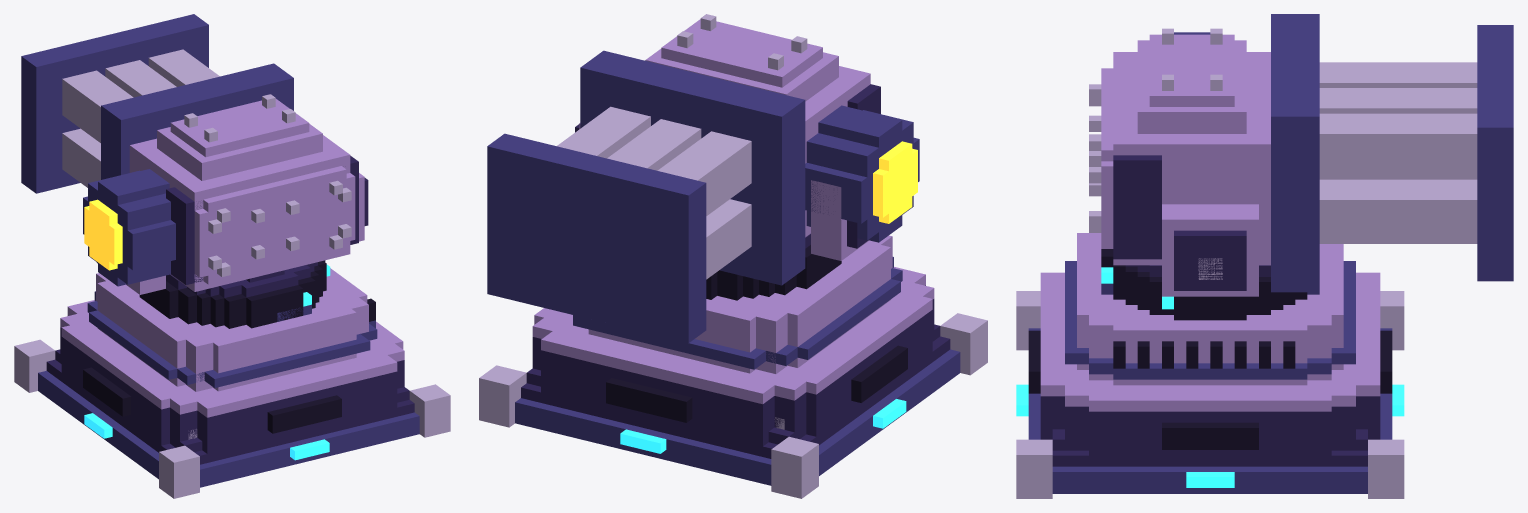
File: flak-cannon.md.glb
The picture shows the model from 3 angles, left to right: view 1: azimuth 30°, elevation 25°; view 2: azimuth 150°, elevation 25°; view 3: azimuth 270°, elevation 25°; orthographic projection. The views are drawn at different scales.
Parts seen in each view (by area): view 1: flak-cannon.md; view 2: flak-cannon.md; view 3: flak-cannon.md.
Boxes of the visible parts, box(x1,y1,x2,y2) form: flak-cannon.md: box(14, 14, 450, 498); flak-cannon.md: box(479, 14, 987, 498); flak-cannon.md: box(1016, 14, 1513, 498).
Size of the model in its own units: 2 by 2.06 by 2.56.
